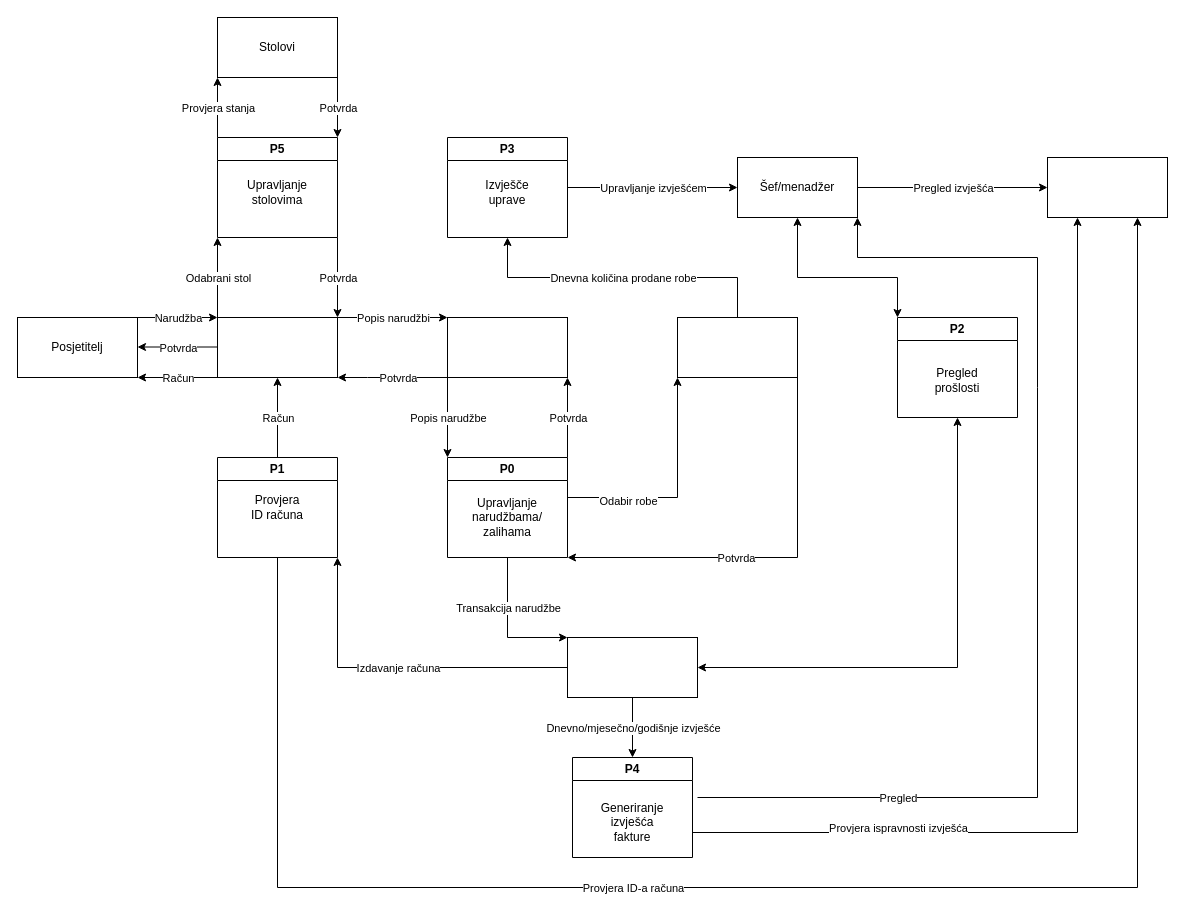
Image size: 1185x913. Some labels were removed from this diagram. The centre of each missing label's shape, as x and y in pixels:
"Barista" belongs at [507,347].
"Konobar" belongs at [277,347].
"Porezna uprava" belongs at [1107,187].
"Skladište" belongs at [737,347].
"Transakcija" belongs at [632,667].
